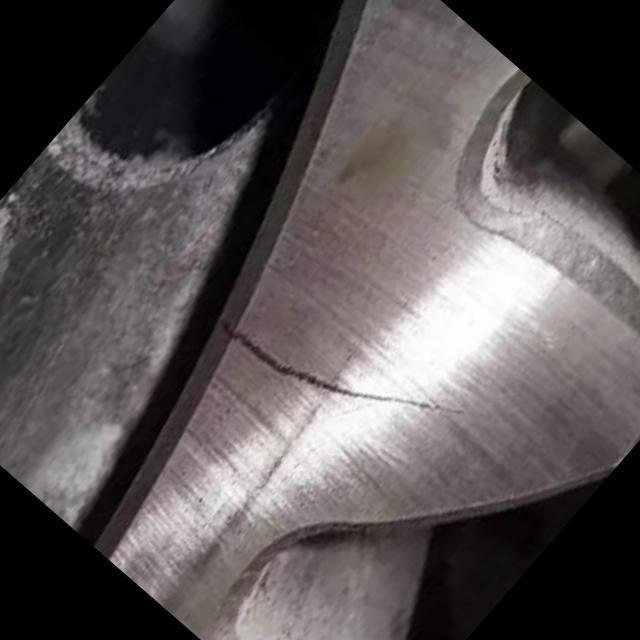defect: (216, 314, 477, 426)
